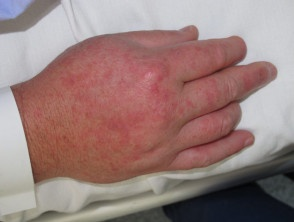SJS-TEN: (39, 37, 277, 174)
